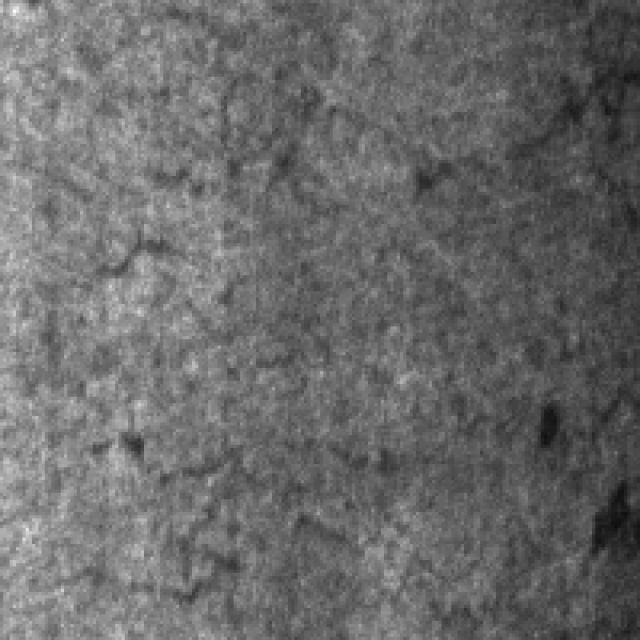crazing: (35, 224, 432, 618), (6, 58, 637, 278)
